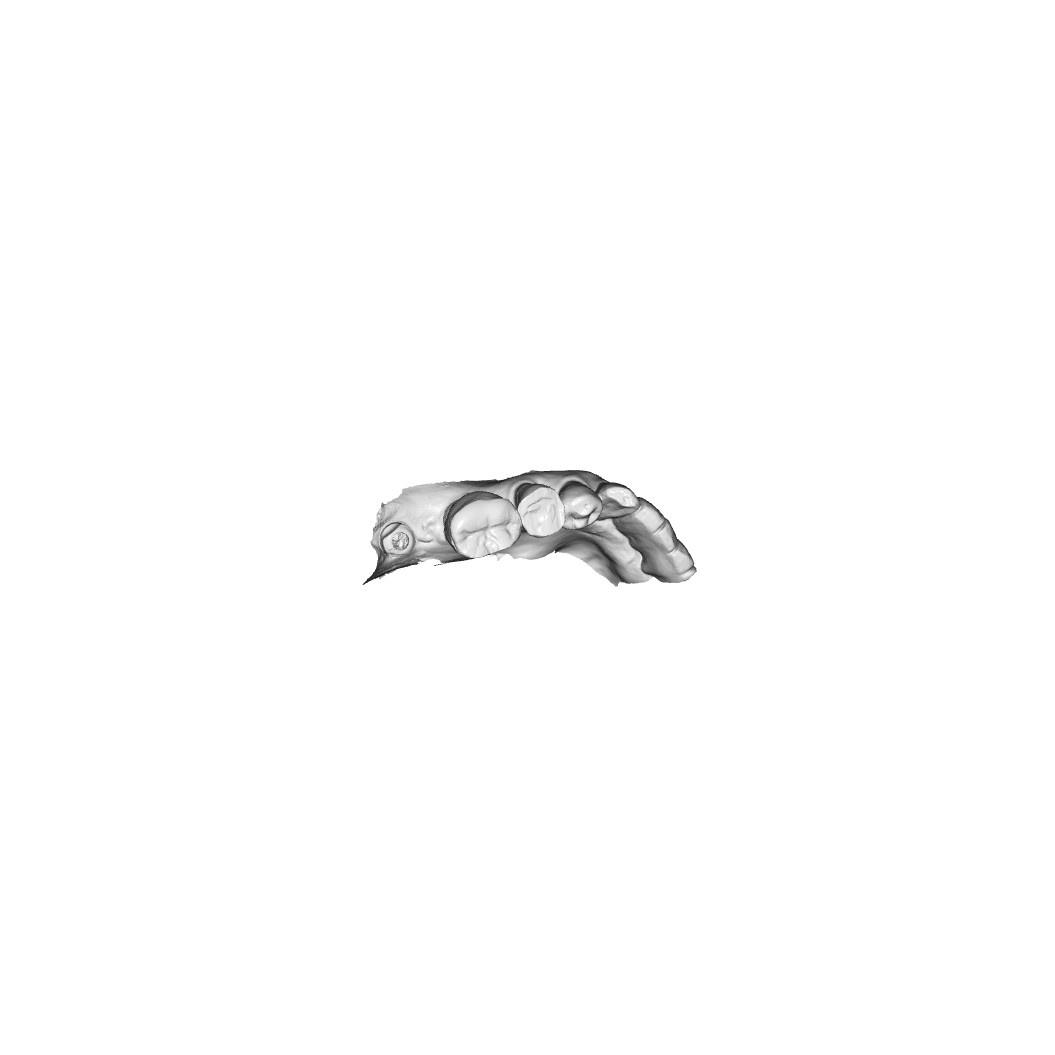canine: (598, 478, 639, 518)
implant: (378, 521, 417, 558)
incisor: (640, 542, 696, 583), (631, 520, 683, 560), (615, 496, 664, 538)
molar: (443, 488, 521, 563)
premolar: (514, 482, 567, 542), (557, 477, 602, 533)
